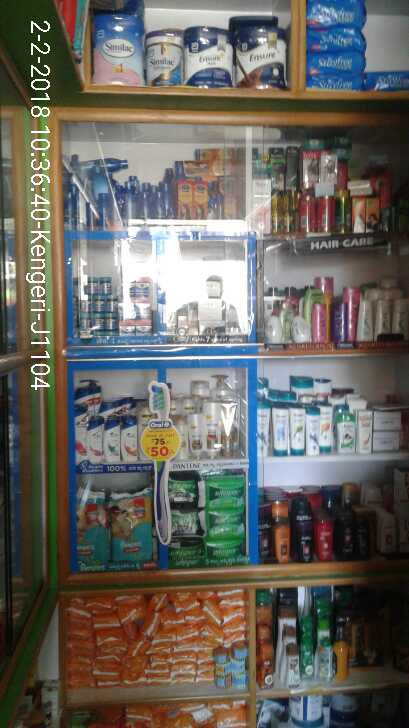beauty: (73, 409, 91, 465), (89, 415, 105, 475), (188, 410, 205, 462), (104, 415, 121, 464), (206, 399, 220, 457), (122, 419, 142, 458)
pharmacy: (66, 485, 113, 574), (109, 484, 158, 567), (65, 274, 121, 335), (194, 469, 258, 508), (116, 298, 160, 333), (204, 508, 246, 542), (202, 540, 244, 574), (162, 533, 200, 569), (169, 468, 195, 500), (126, 268, 152, 296), (165, 509, 196, 532)
